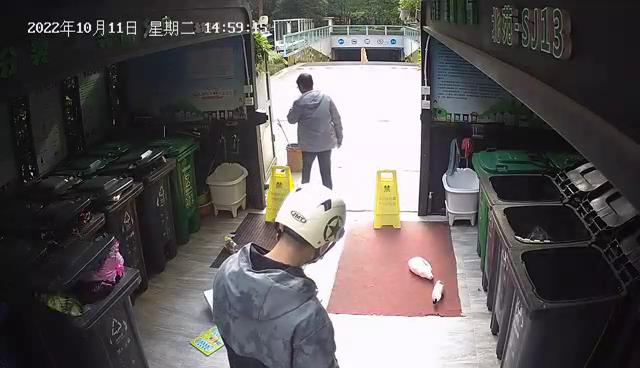person: (210, 182, 348, 368), (286, 73, 344, 191)
suliaozhipin: (406, 255, 434, 282), (431, 279, 445, 304)
zhizhipin: (188, 324, 223, 357)
